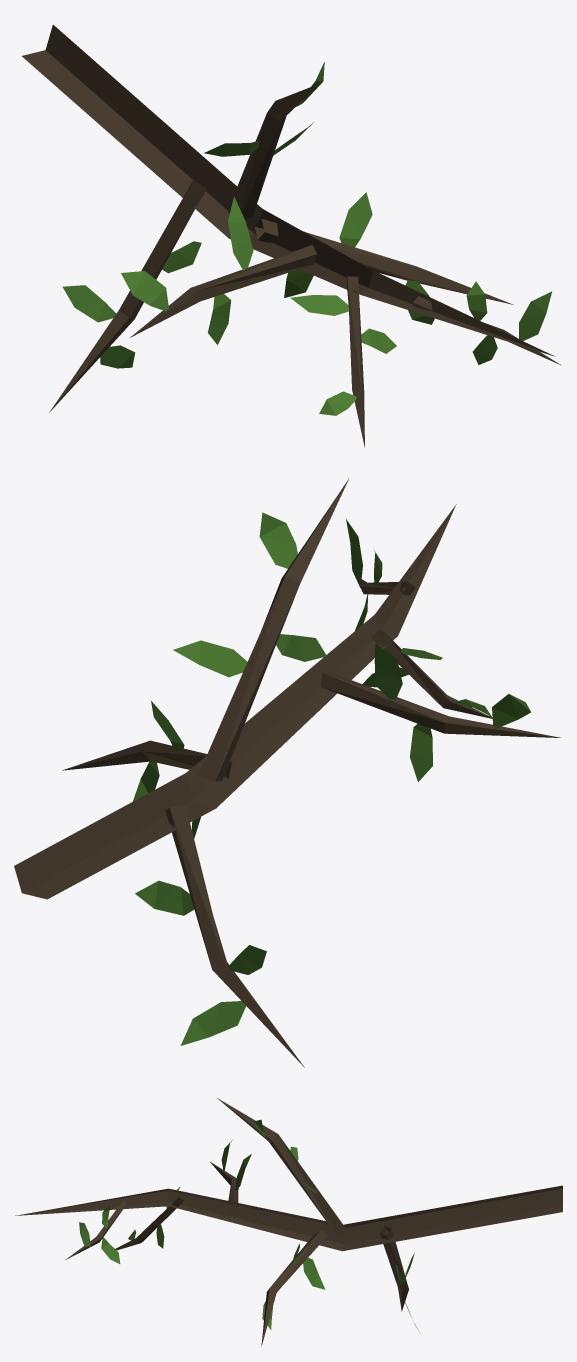
Rendered from PineTreeSmall.glb.
The picture shows the model from 3 angles, top to bottom: view 1: azimuth 30°, elevation 25°; view 2: azimuth 150°, elevation 25°; view 3: azimuth 270°, elevation 25°; orthographic projection. The views are drawn at different scales.
Visible parts, largest first — view 1: PineTreeSmall; view 2: PineTreeSmall; view 3: PineTreeSmall.
Boxes of the visible parts, left/top/right/bottom form: PineTreeSmall: left=22, top=24, right=561, bottom=447; PineTreeSmall: left=14, top=479, right=560, bottom=1067; PineTreeSmall: left=15, top=1098, right=562, bottom=1346.
Size of the model in its own units: 0.8395 by 0.7769 by 1.56.
1 material, 1 textured.
